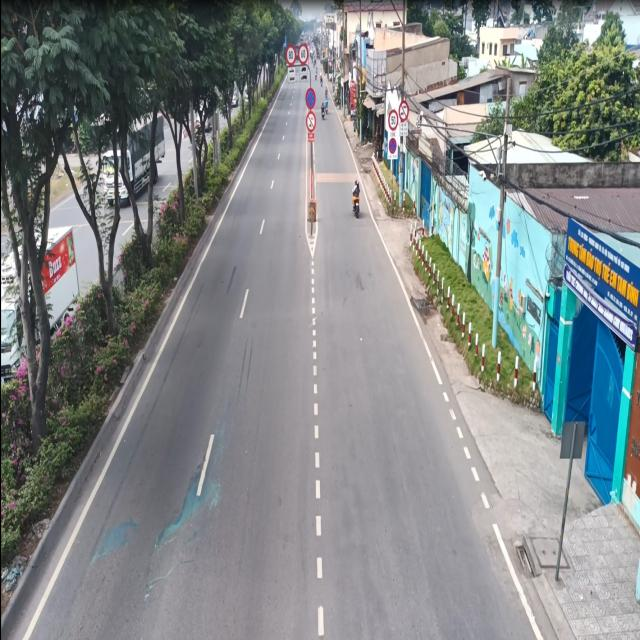motor: (349, 172, 366, 228)
